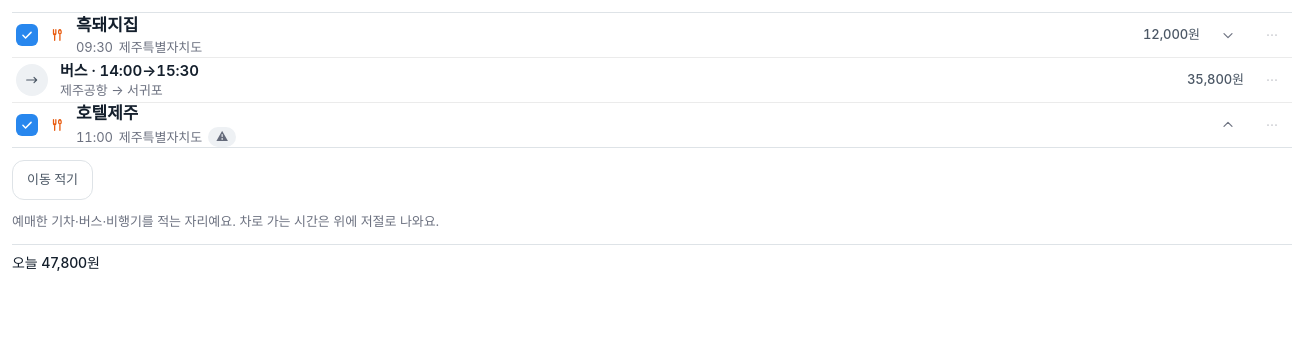
Test: TimelinePane — TDS list-row 규격 › 순서 바꾸기는 행에 바로 두고, 편집·되돌리기만 펼친 뒤 보여 준다
expect the button named "아래로 옮기기" is shown: met, box top-left (1212, 19), bottom-right (1244, 51)
Click the button named "흑돼지집 작업 열기" at (1272, 35), box top-left (1256, 19), bottom-right (1288, 51)
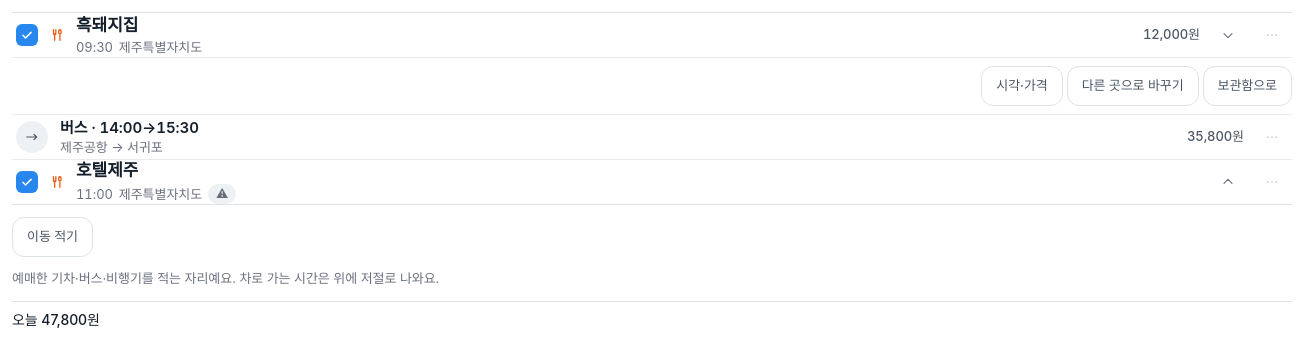
expect the button with aria-label "보관함으로 되돌리기" is shown: met, box top-left (1203, 66), bottom-right (1292, 106)
expect the number of buttons named "아래로 옮기기" is 1: met, box top-left (1212, 19), bottom-right (1244, 51)
